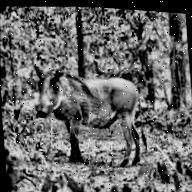boar: (25, 36, 147, 174)
